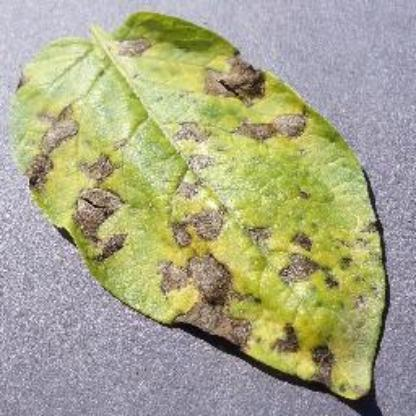Early-Blight: (16, 10, 396, 402)
